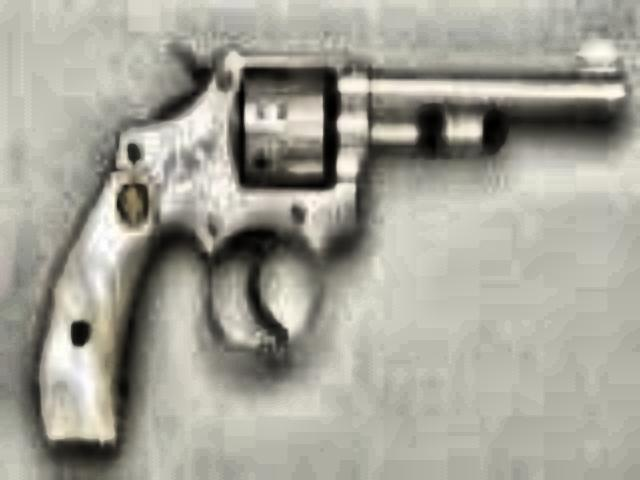pistol: (36, 32, 616, 444)
